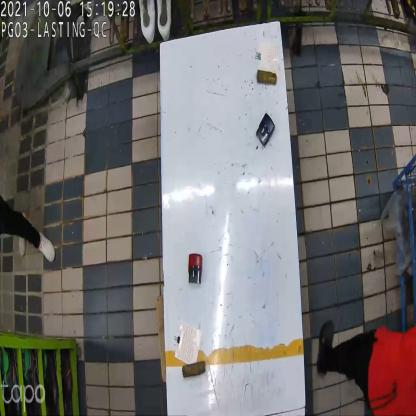stamp: (256, 111, 275, 149), (184, 252, 204, 286)
